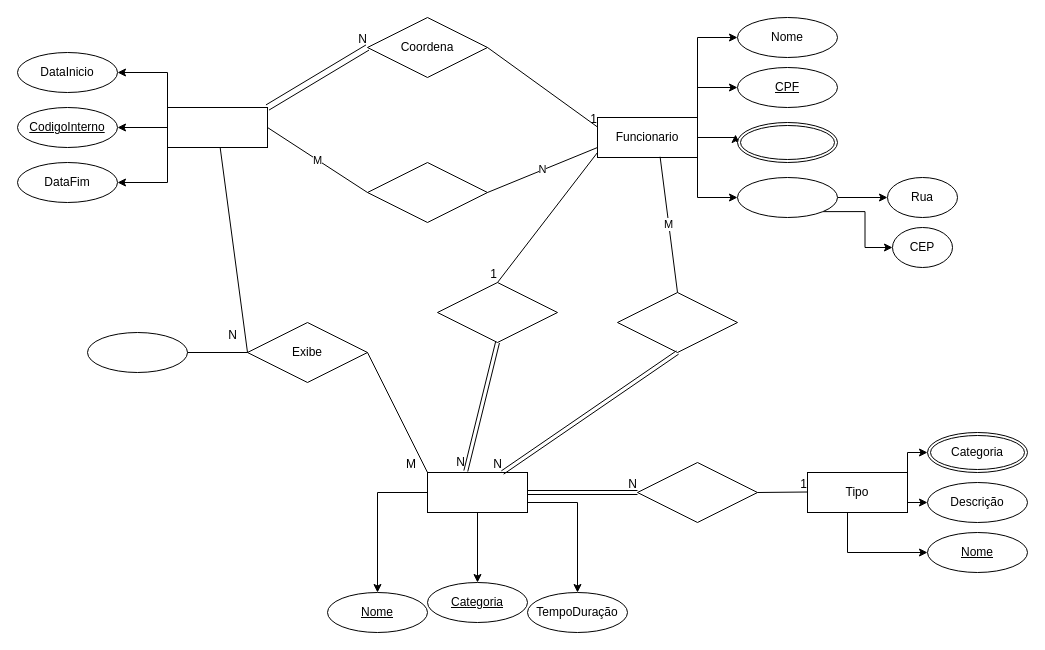
This 1045x650 diagram has some shape labels left out. Each missing label, with the centre of its shape:
Colabora: point 427,192
Dirige: point 497,312
Endereço: point 787,197
Grade: point 217,127
Horário: point 137,352
Participa: point 677,322
Pertence: point 697,492
Programa: point 477,492
Telefone: point 787,142
